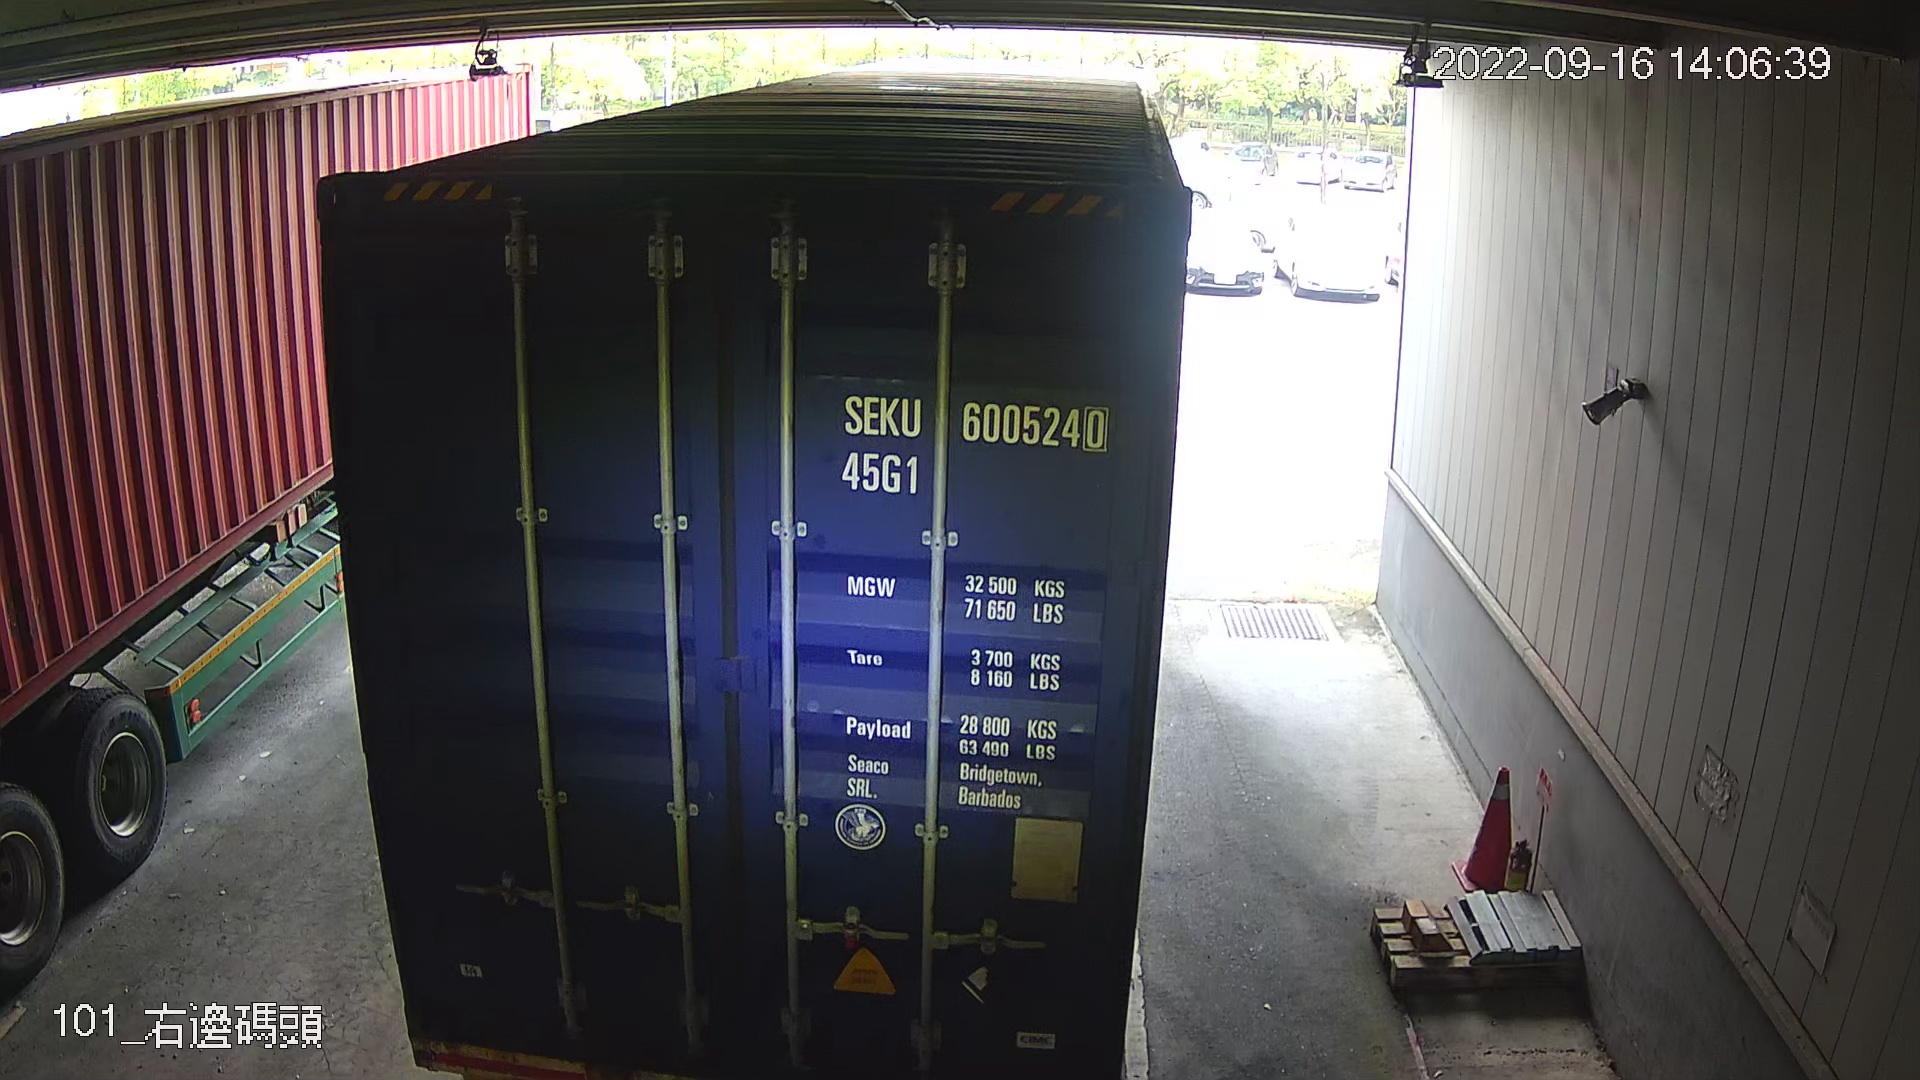container: (825, 392, 1120, 501)
